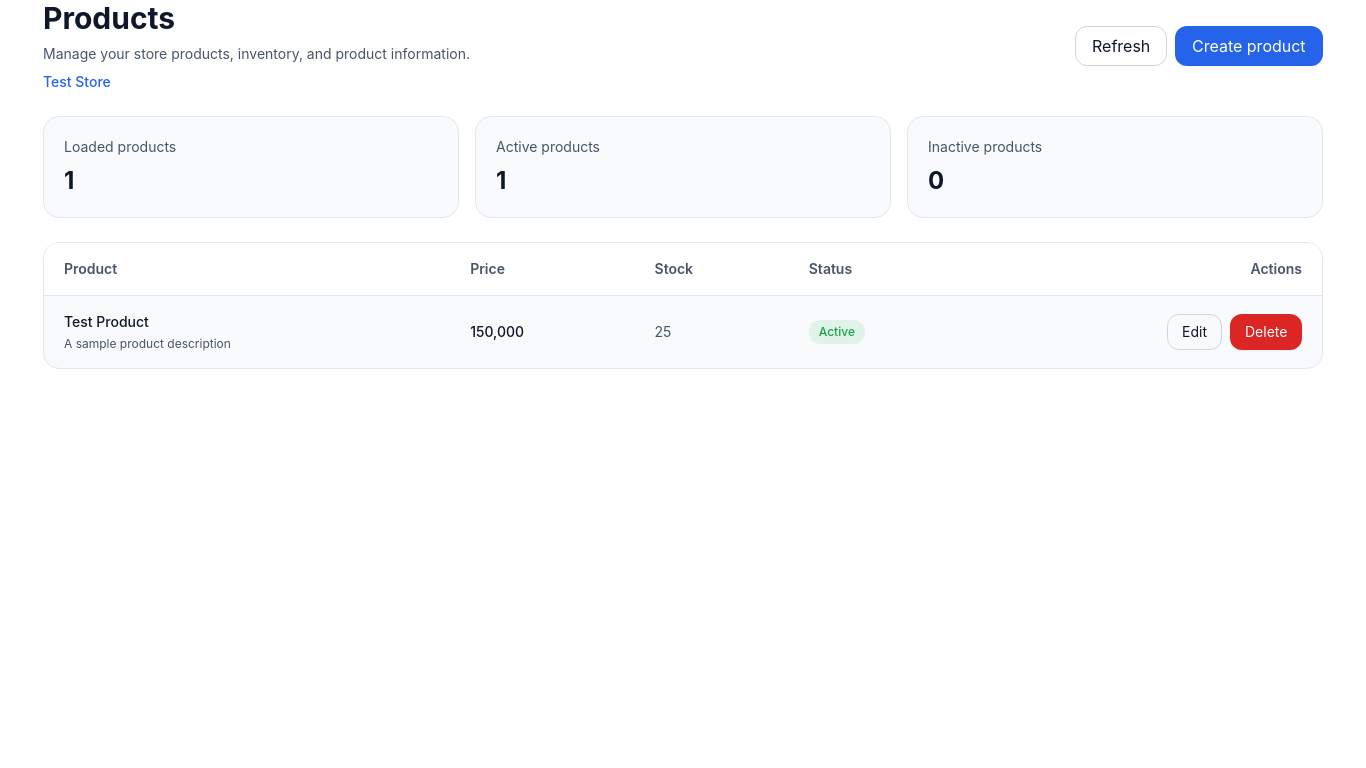
Test case: ProductsPage › should create a product
Click the button "Create product" at [1249, 46], box [1175, 26, 1323, 66]
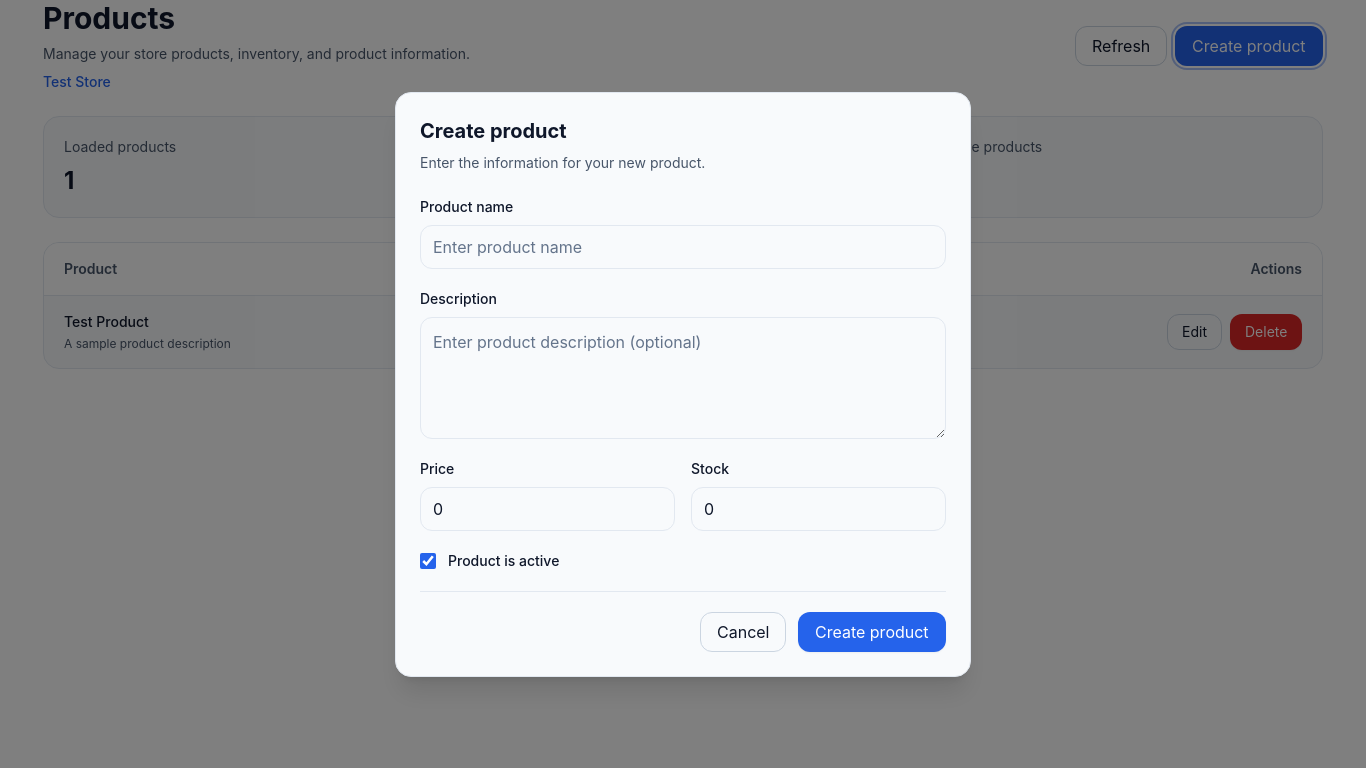
Check: the dialog "Create product" is shown, box [395, 92, 971, 676]
Type "New Product" into the field labelled "Product name" at [683, 246], box [420, 224, 946, 268]
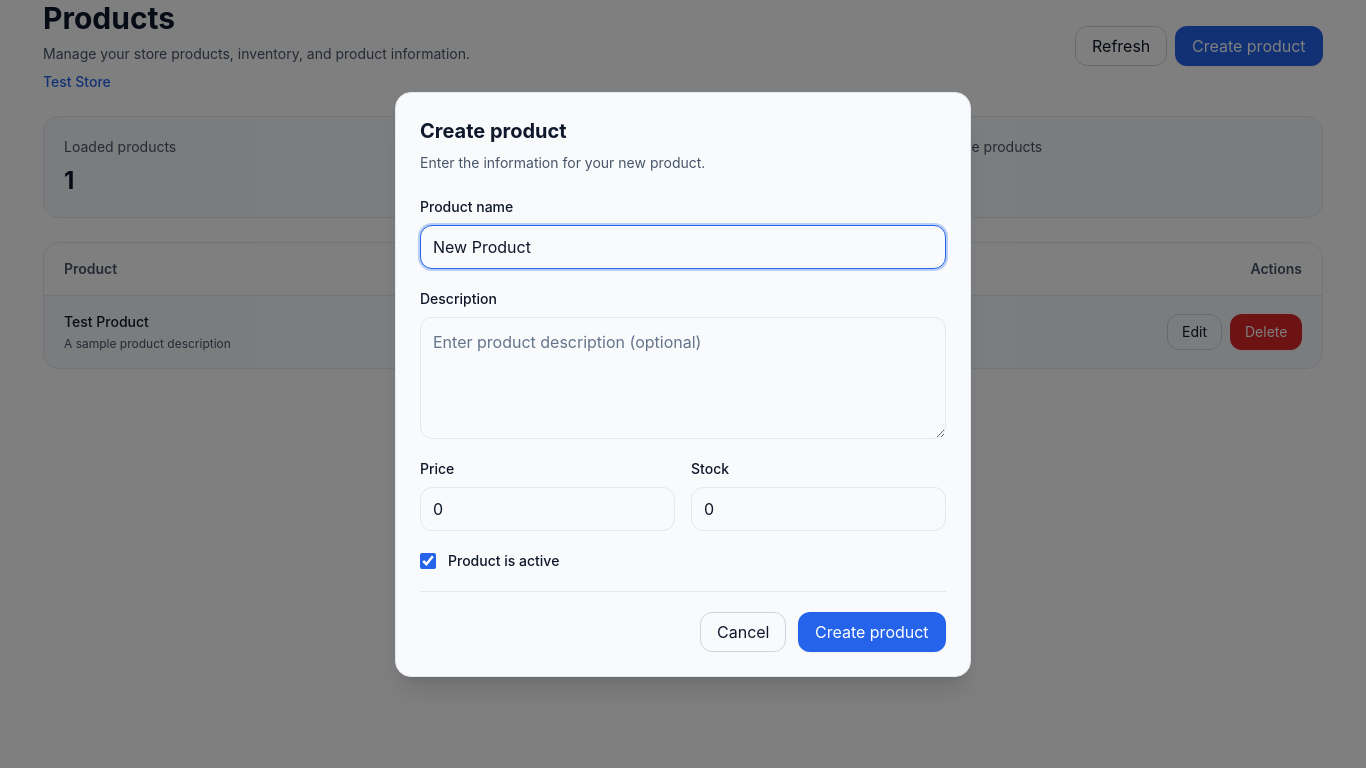
Replace the text in the number field labelled "Price" with "200000" at [548, 508], box [420, 486, 675, 530]
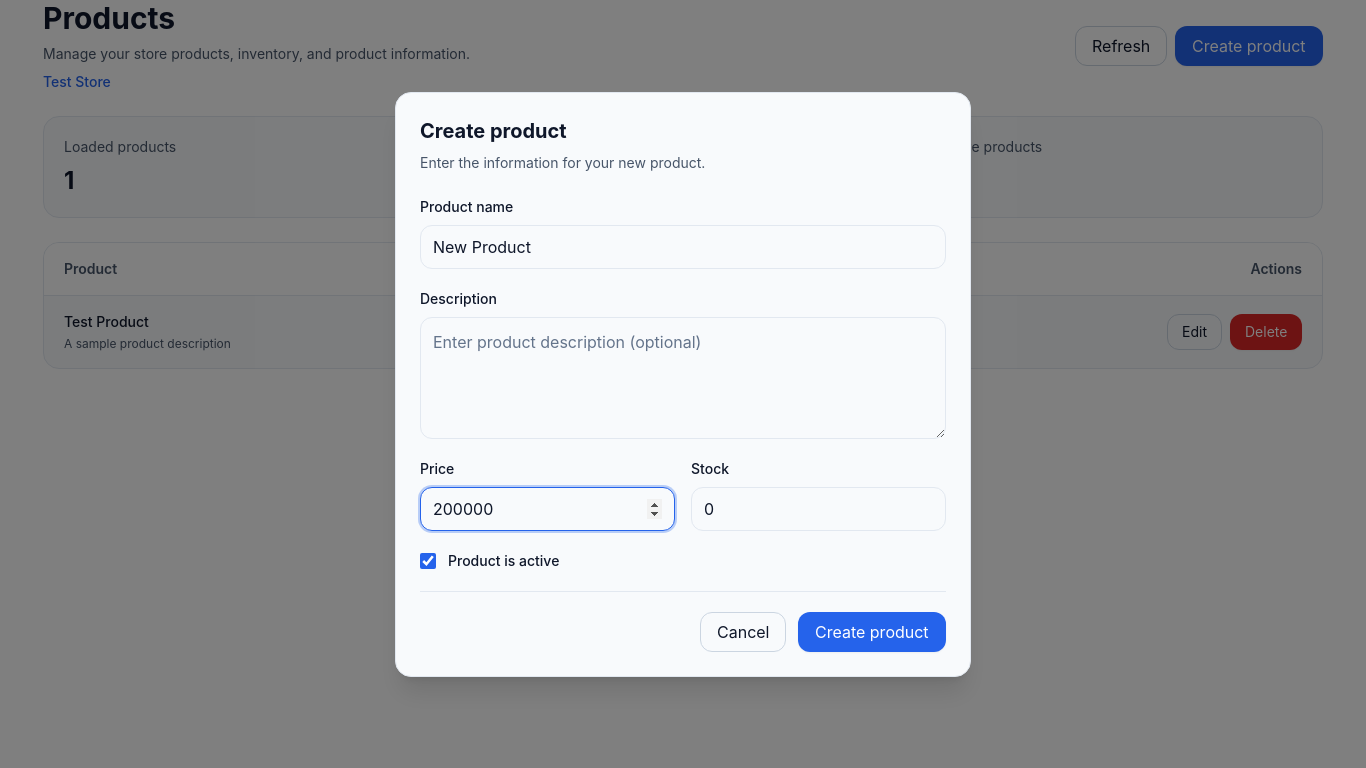
Replace the text in the number field labelled "Stock" with "10" at [818, 508], box [691, 486, 946, 530]
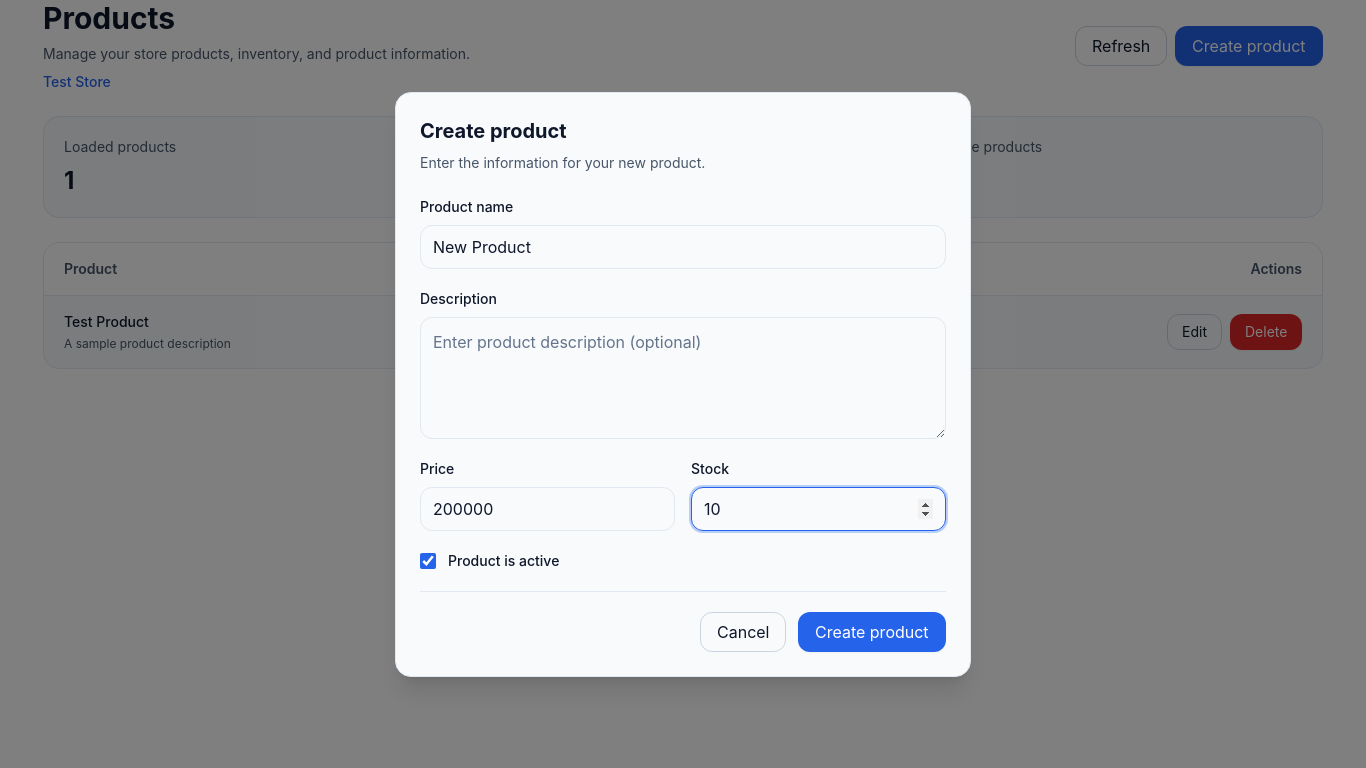
Click the button "Create product" at [872, 632], box [798, 612, 946, 652]
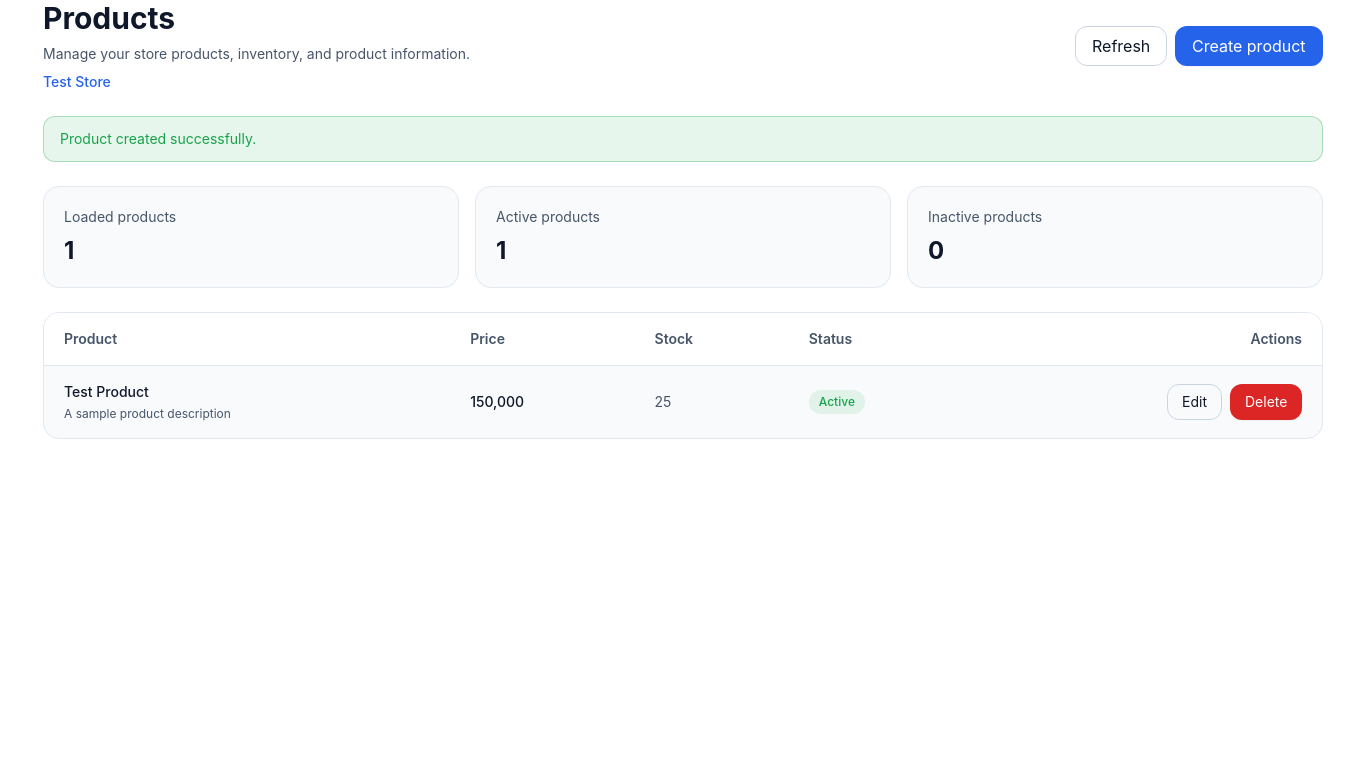
Check: the text "Product created successfully." is shown, box [43, 116, 1323, 162]
